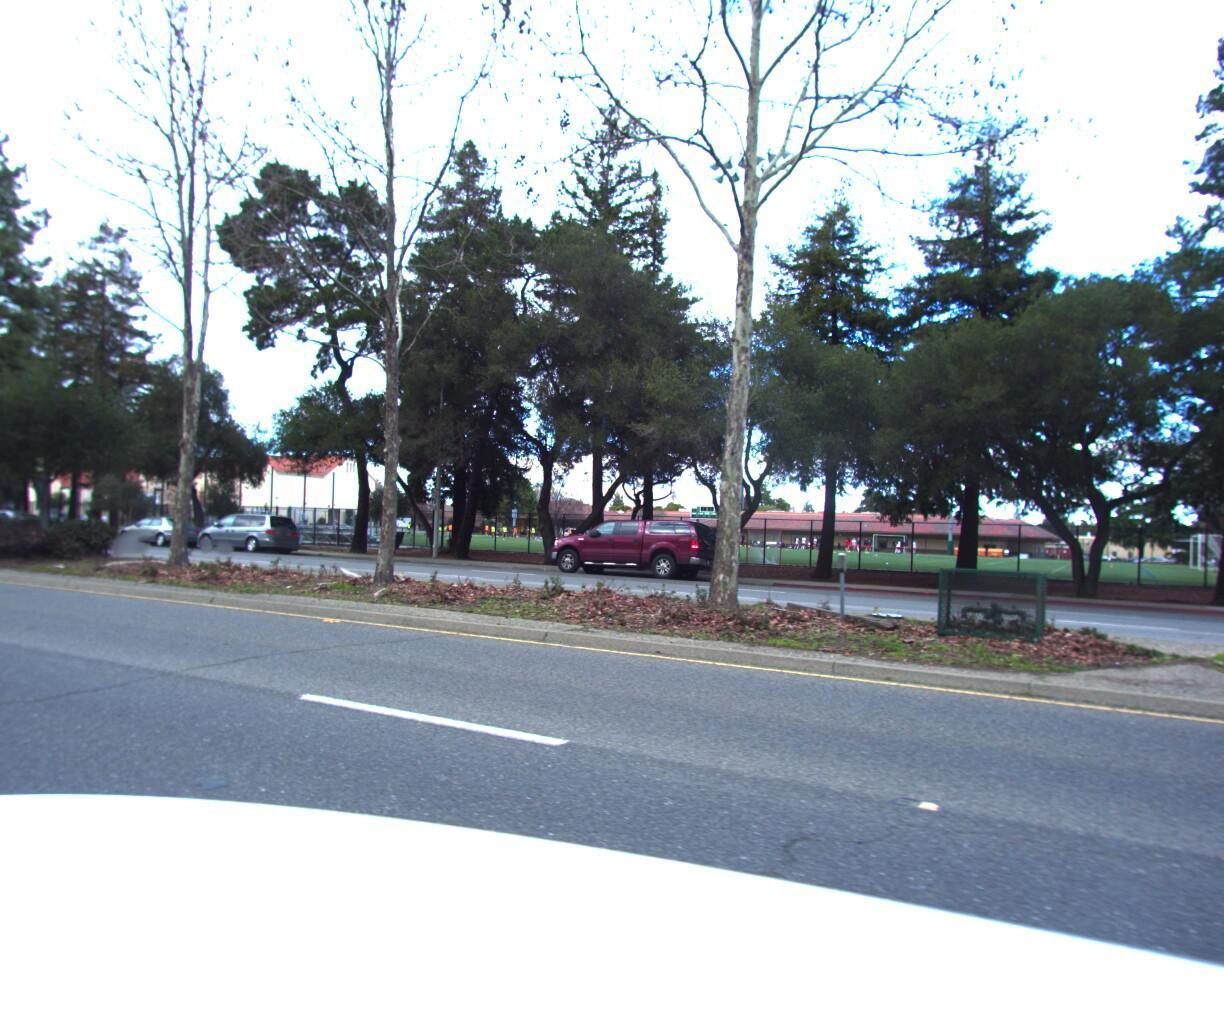car: (542, 510, 743, 579), (190, 505, 307, 554), (109, 507, 210, 546)
